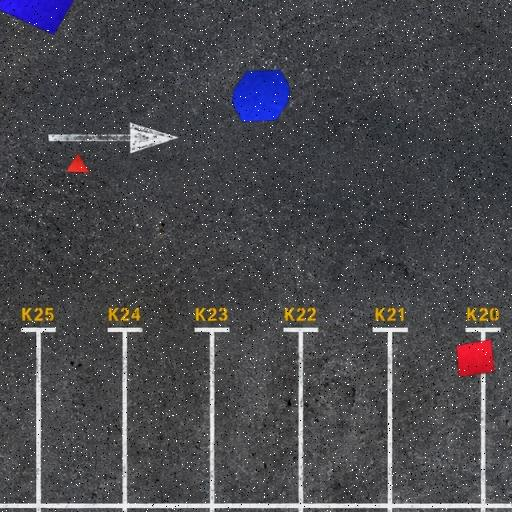BLUE_SQUARE: (0, 0, 90, 35)
RED_SQUARE: (455, 339, 495, 378)
